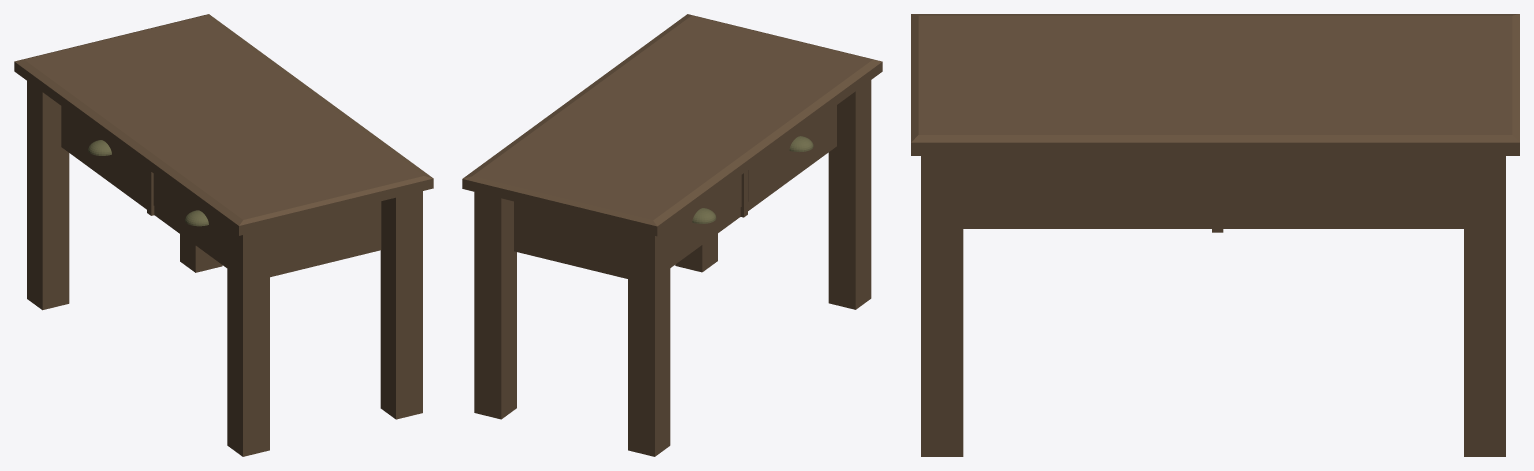
Rendered from dressing-table-straight-legs-fbx.fbx.
3 renders of one model, left to right at view 1: azimuth 30°, elevation 25°; view 2: azimuth 150°, elevation 25°; view 3: azimuth 270°, elevation 25°, orthographic. The views are drawn at different scales.
Visible parts, largest first — view 1: body, drawer-left, drawer-right; view 2: body, drawer-right, drawer-left; view 3: body.
Boxes of the visible parts, x1,y1,x2,y2 form: body: (14, 14, 433, 456); drawer-left: (61, 106, 146, 199); drawer-right: (153, 174, 227, 258); body: (462, 14, 882, 456); drawer-right: (748, 107, 833, 201); drawer-left: (670, 175, 741, 258); body: (911, 14, 1519, 456).
Size of what is drawn, in the model's own units: 0.6 by 0.7004 by 1.2.
